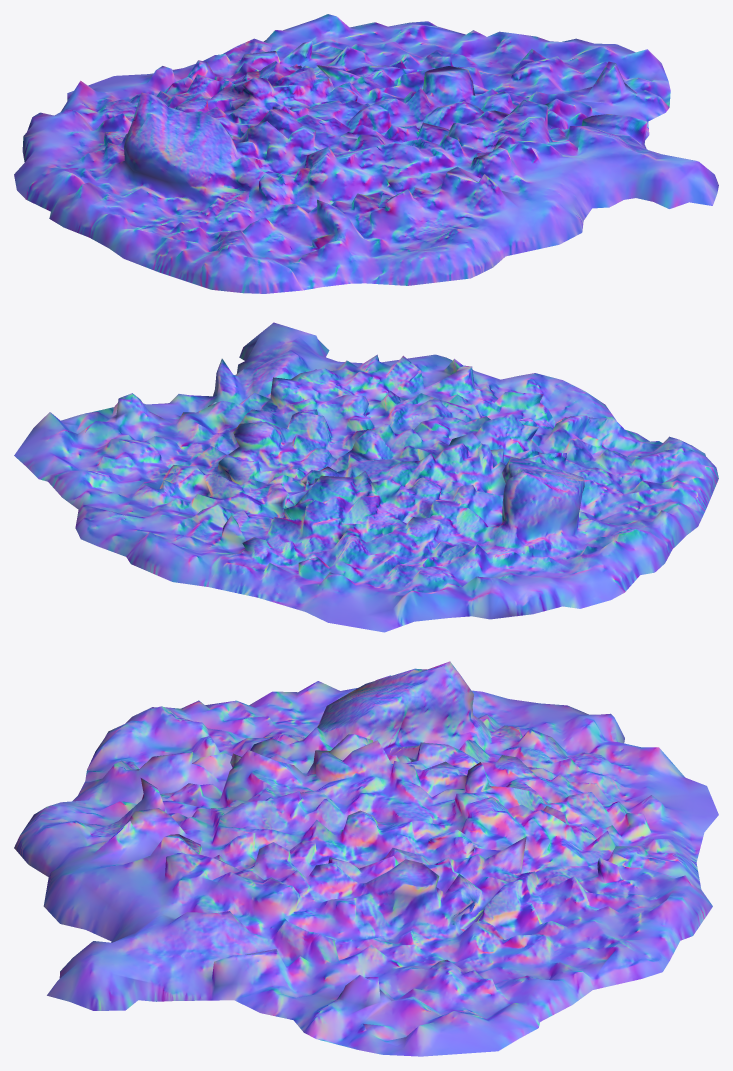
Rendered from TerrainDeco001 Mossy Variant.fbx.
3 renders of one model, top to bottom at view 1: azimuth 30°, elevation 25°; view 2: azimuth 150°, elevation 25°; view 3: azimuth 270°, elevation 25°, orthographic. The views are drawn at different scales.
Parts seen in each view (by area): view 1: TerrainDeco01_LOD0; view 2: TerrainDeco01_LOD0; view 3: TerrainDeco01_LOD0.
Part boxes in pixels (bbox=[...]): TerrainDeco01_LOD0: bbox=[14, 14, 718, 293]; TerrainDeco01_LOD0: bbox=[14, 322, 718, 632]; TerrainDeco01_LOD0: bbox=[14, 661, 718, 1056].
Size of the model in its own units: 502 by 73.41 by 418.
